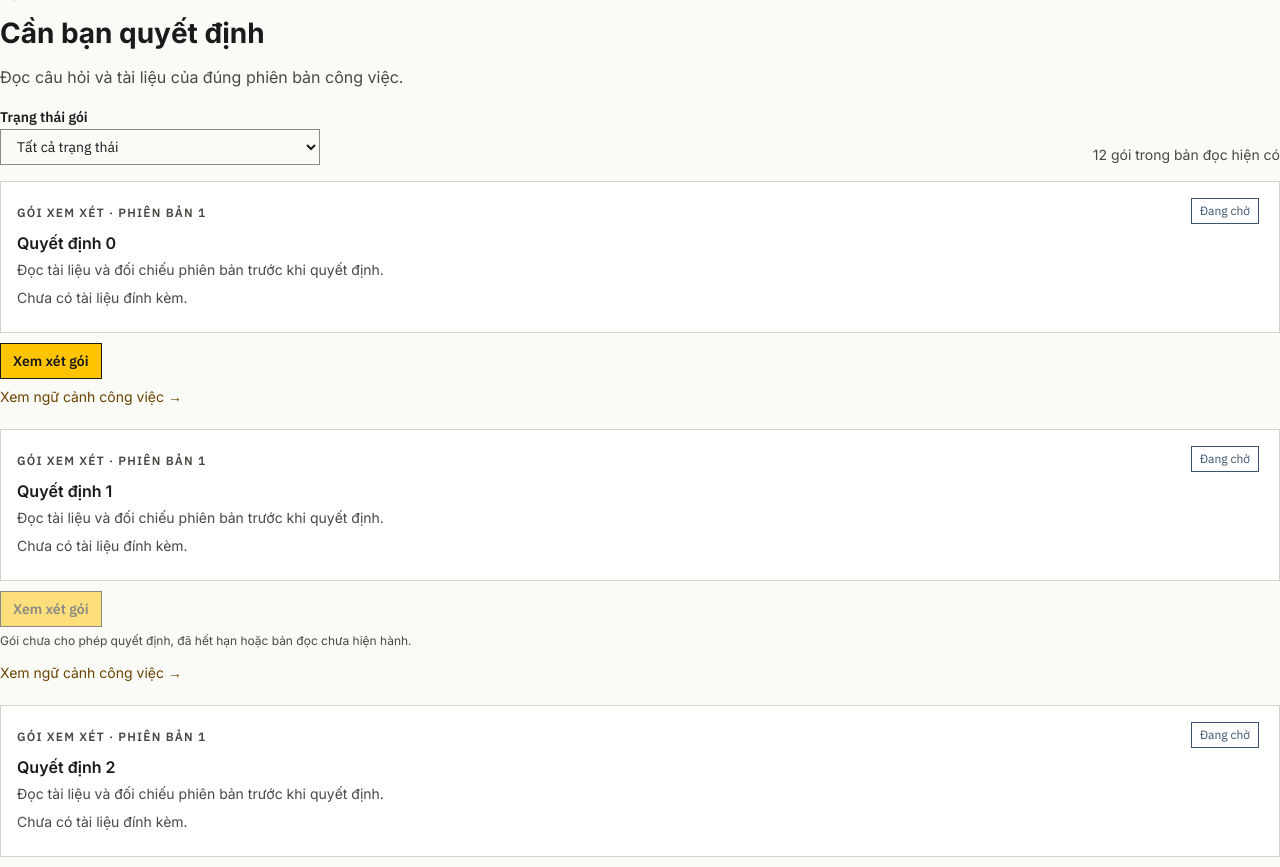
bounds review requests to the visible page and protects an unfinished decision when paging
Click the button "Xem xét gói" below "Quyết định 0".
click(51, 360)  # box [0,342,102,378]
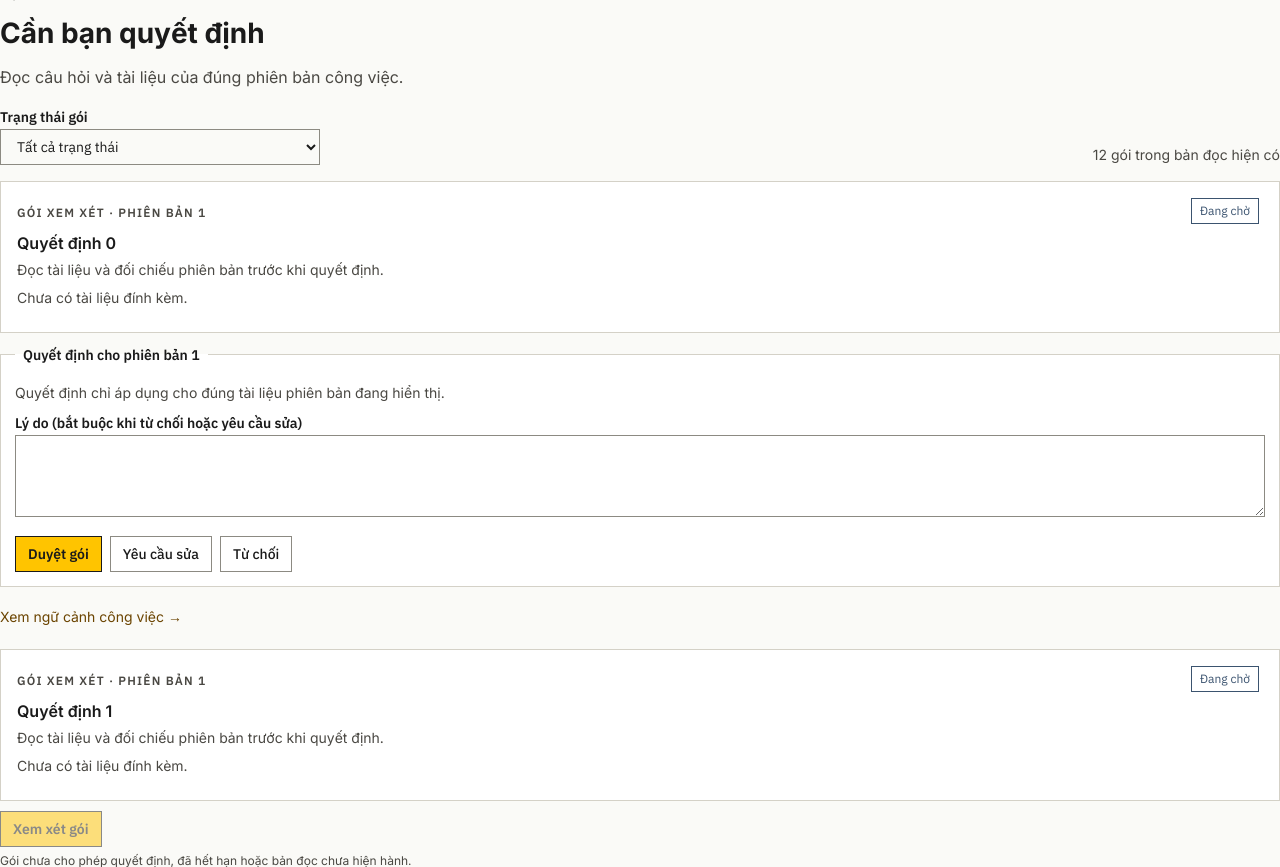
Type "Cần bổ sung kiểm chứng" into the text box labelled "Lý do (bắt buộc khi từ chối hoặc yêu cầu sửa)".
click(640, 476); type("Cần bổ sung kiểm chứng")  # box [15,434,1265,517]
(page scrolled)
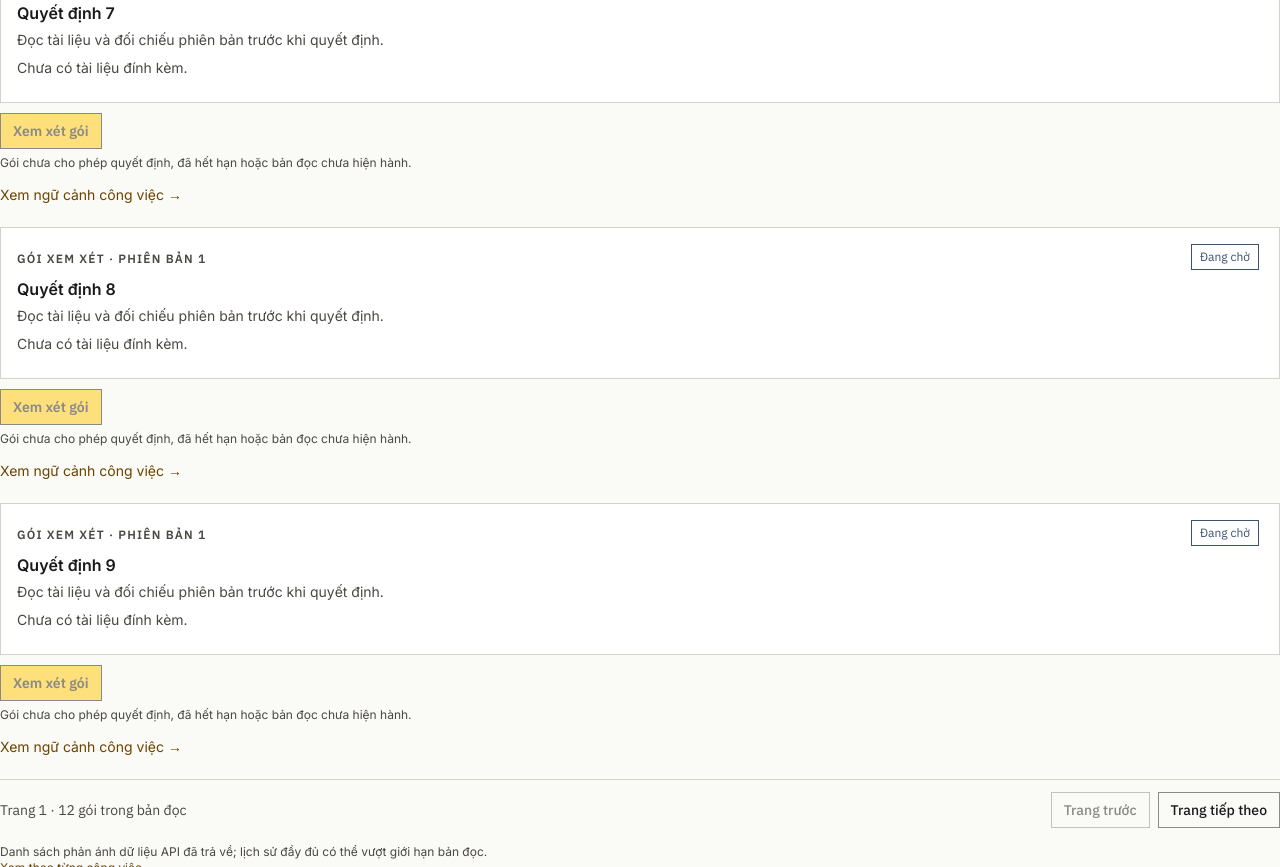
Click the button "Trang tiếp theo".
click(1219, 810)  # box [1158,792,1279,828]
(page scrolled)
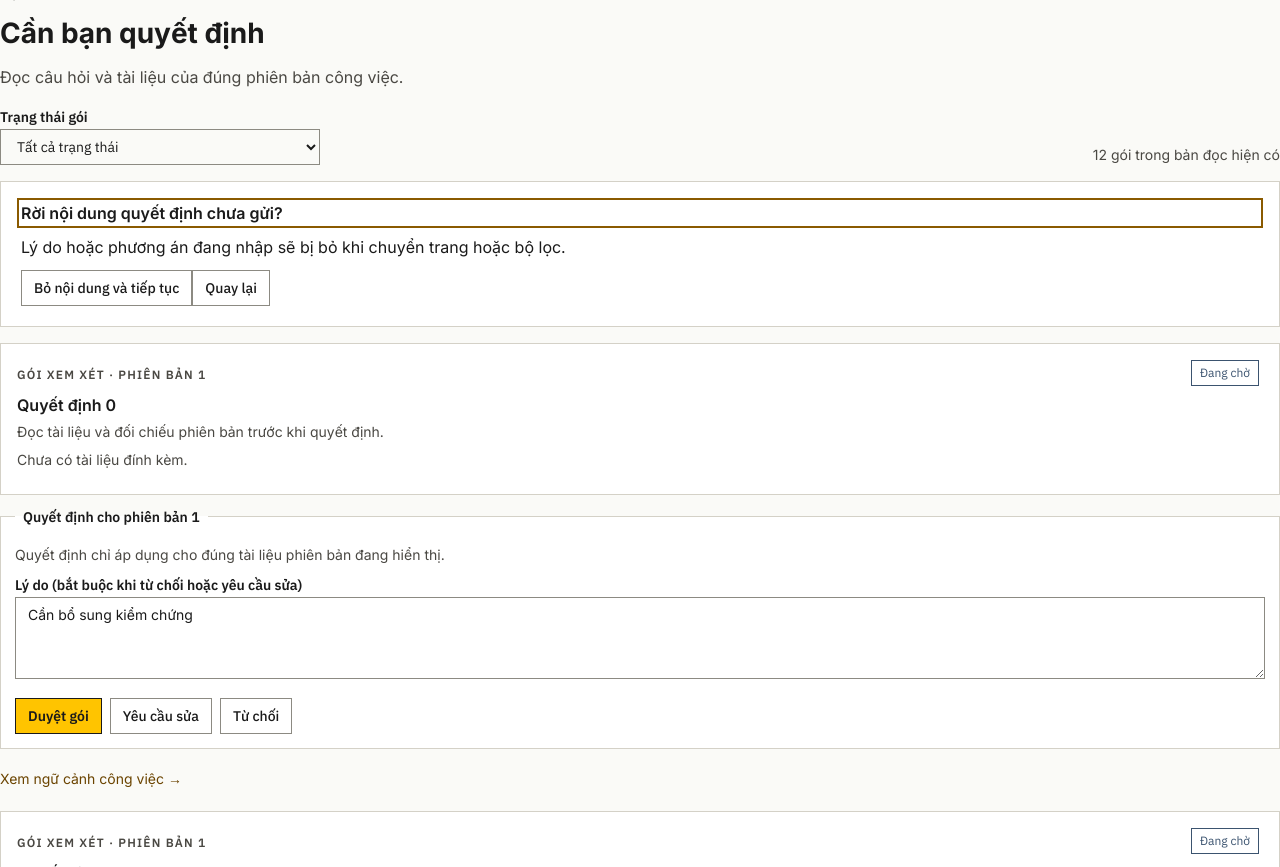
Check: the heading "Rời nội dung quyết định chưa gửi?" is shown, box [21,202,283,222]
Click the button "Quay lại".
click(231, 288)  # box [192,270,270,306]
(page scrolled)
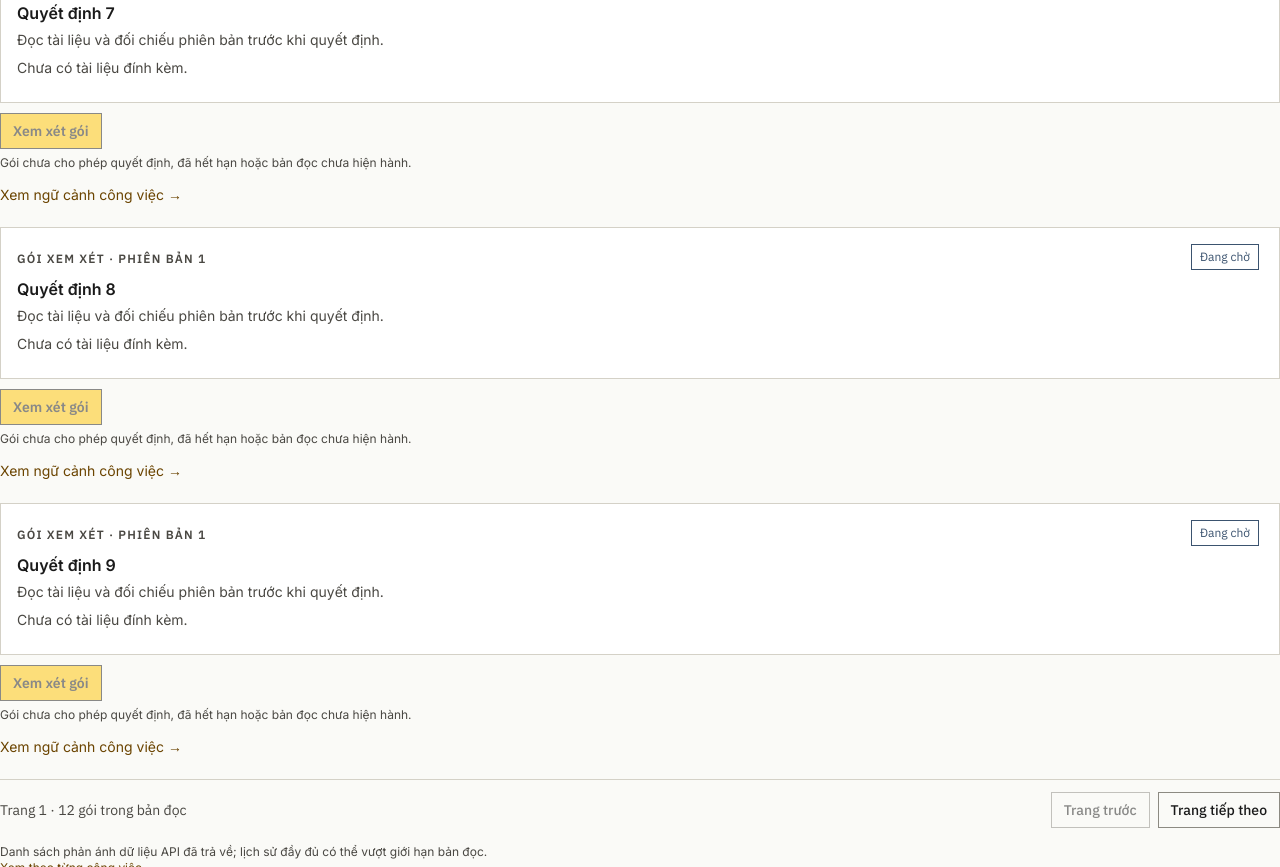
Click the button "Trang tiếp theo".
click(1219, 810)  # box [1158,792,1279,828]
(page scrolled)
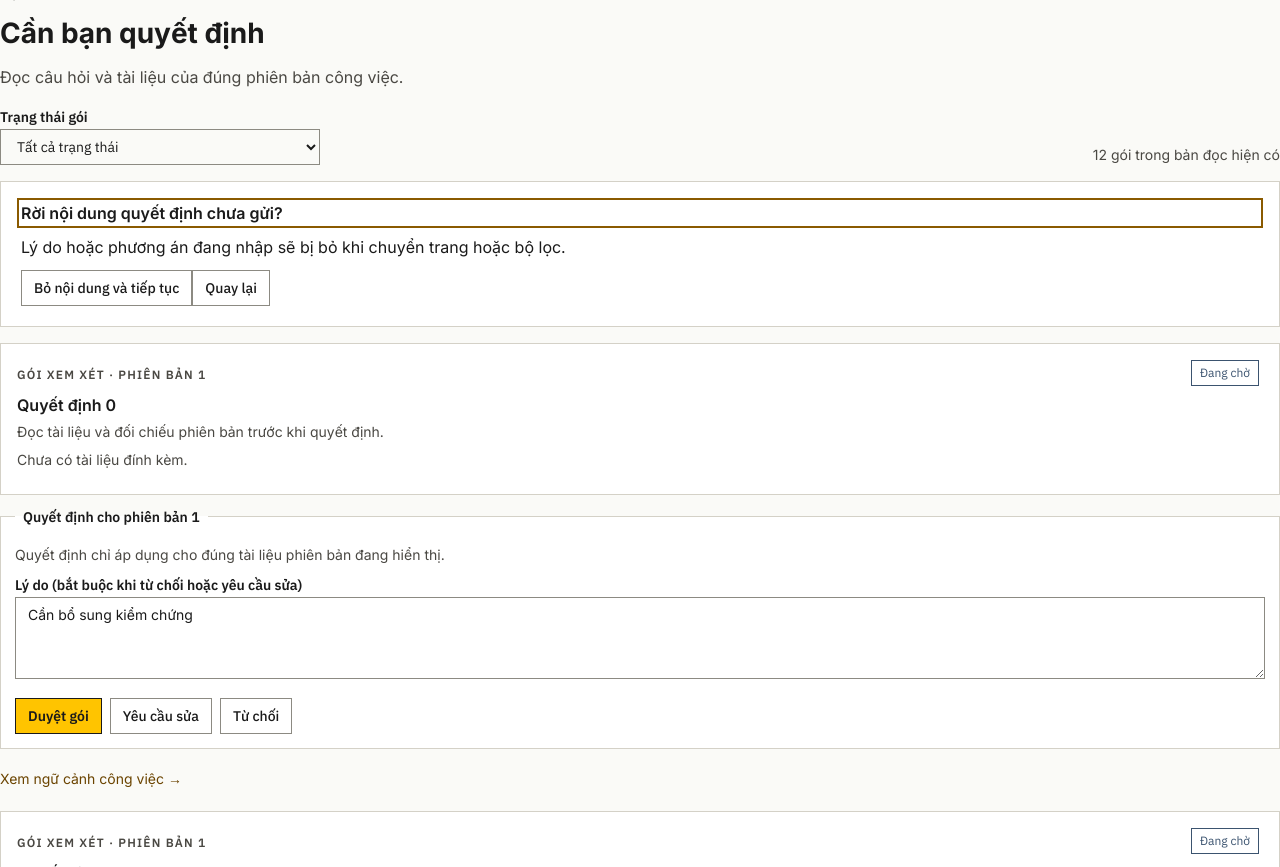
Click the button "Bỏ nội dung và tiếp tục".
click(107, 288)  # box [21,270,192,306]
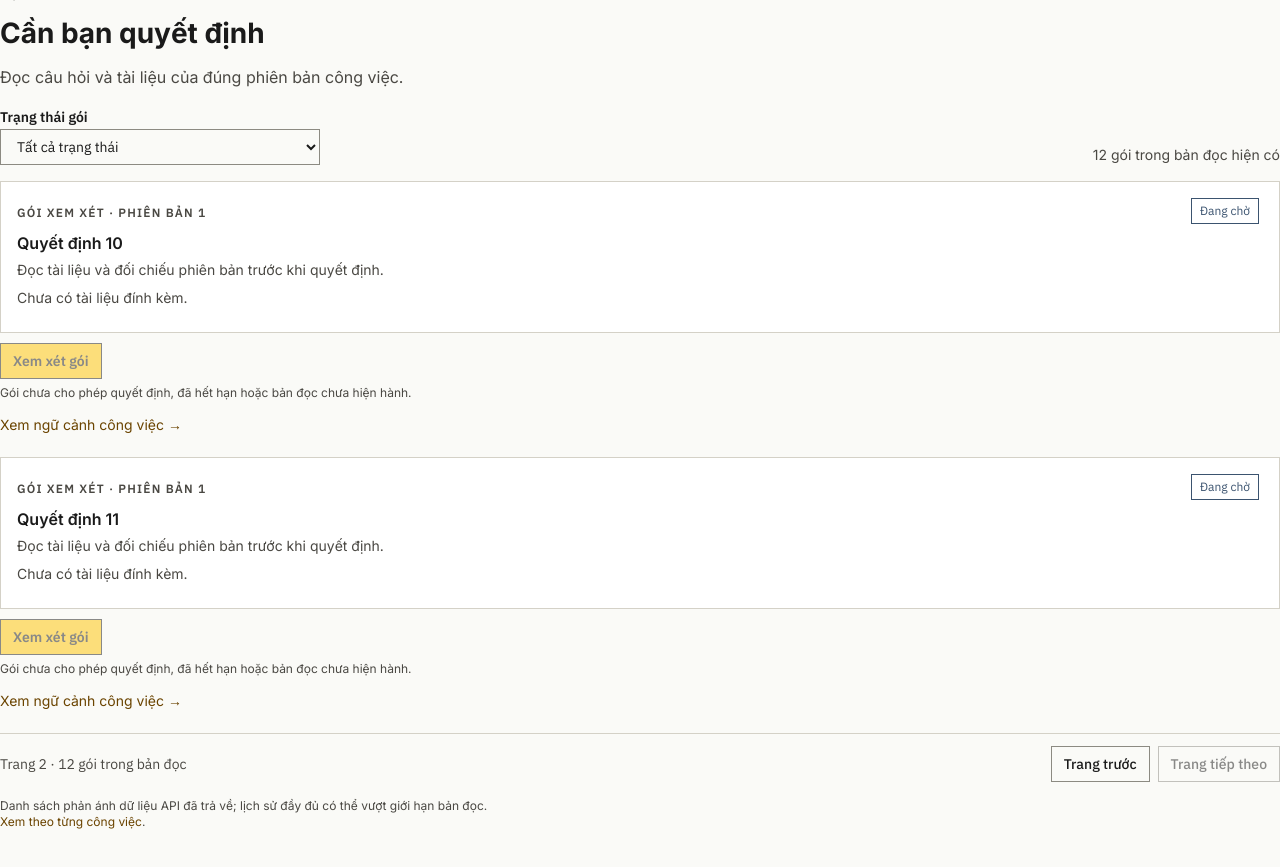
Check: the number of buttons "Xem xét gói" is 2, box [0,342,102,378]; [0,618,102,654]
Check: the text labelled "Lý do" is gone
